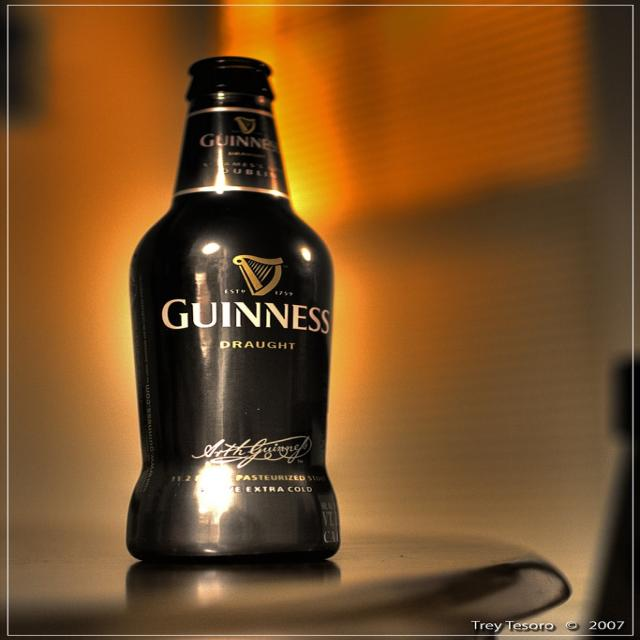guiness: (158, 252, 333, 336)
